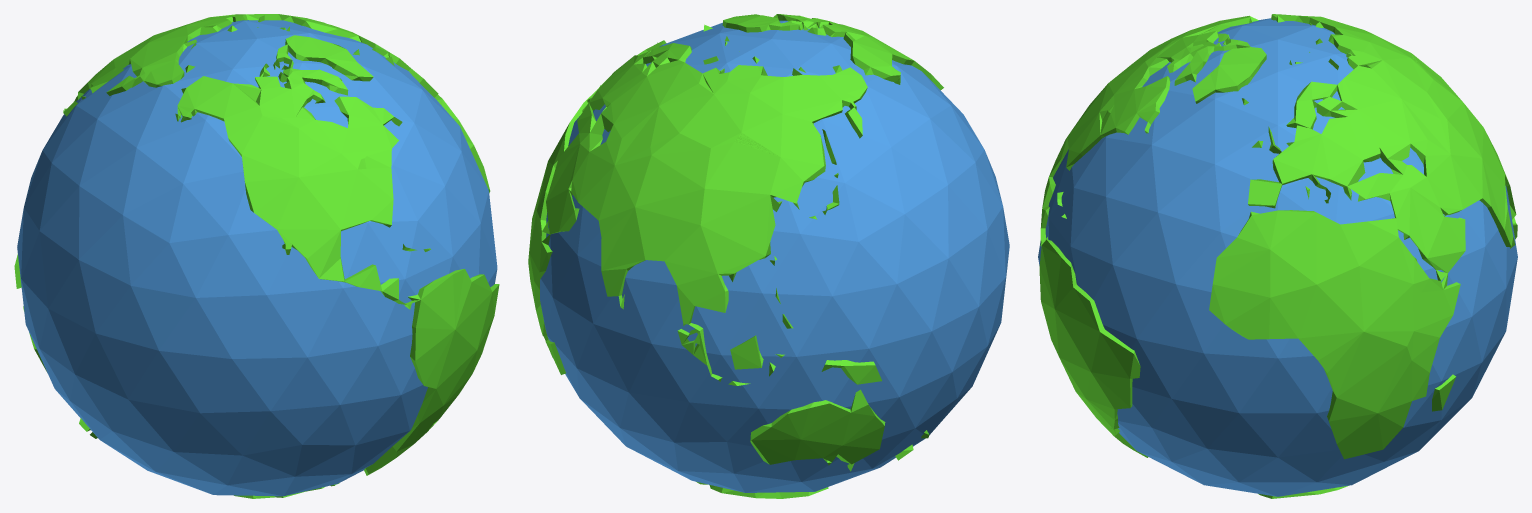
Rendered from earth.glb.
The picture shows the model from 3 angles, left to right: view 1: azimuth 30°, elevation 25°; view 2: azimuth 150°, elevation 25°; view 3: azimuth 270°, elevation 25°; orthographic projection.
Visible parts, largest first — view 1: Icosphere.001, Sphere; view 2: Icosphere.001, Sphere; view 3: Icosphere.001, Sphere.
Part boxes in pixels (x1,y1,x2,y2): Icosphere.001: (17,20,497,496); Sphere: (14,14,499,498); Icosphere.001: (540,20,1009,492); Sphere: (528,14,943,498); Icosphere.001: (1038,18,1517,496); Sphere: (1039,14,1517,498).
Size of the model in its own units: 2.08 by 2.09 by 2.07.
